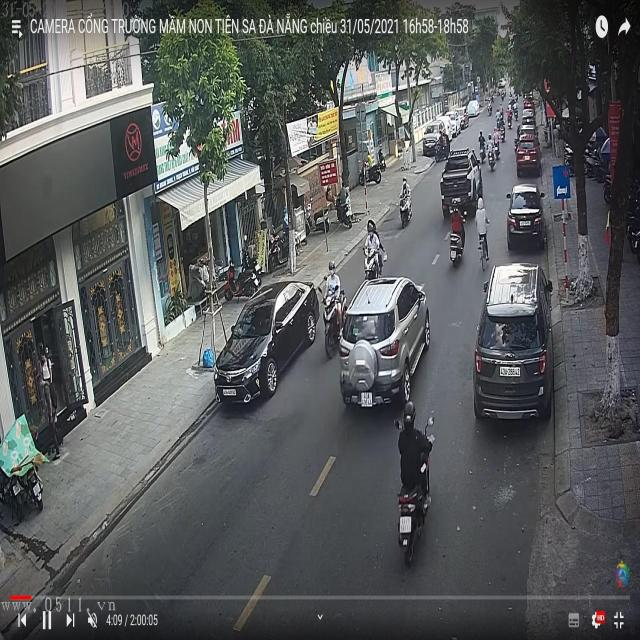car: (215, 276, 322, 407), (475, 261, 556, 420), (337, 275, 431, 409), (506, 184, 546, 253), (440, 148, 482, 213), (516, 141, 541, 168)
motorcycle: (396, 416, 433, 570), (319, 286, 346, 367), (449, 213, 466, 270), (400, 197, 413, 226)
